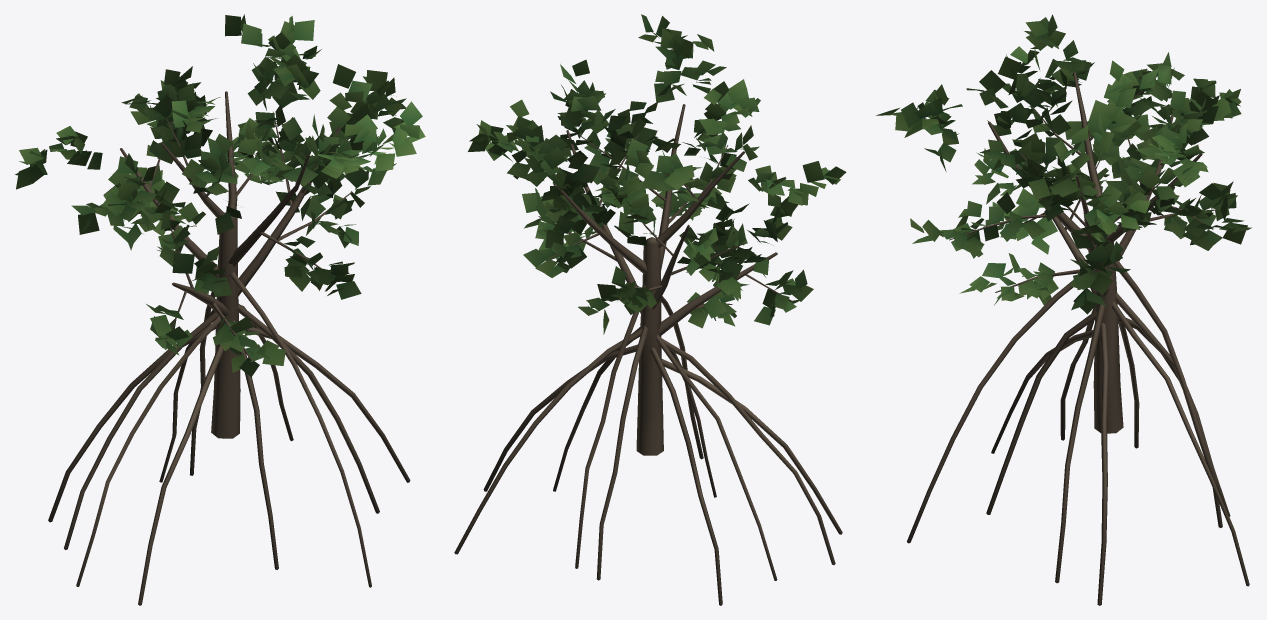
File: mangrove-a.lod1.glb
3 renders of one model, left to right at view 1: azimuth 30°, elevation 25°; view 2: azimuth 150°, elevation 25°; view 3: azimuth 270°, elevation 25°, orthographic. The views are drawn at different scales.
Bounding box in the file's own units: 5.06 × 6.77 × 4.67.
